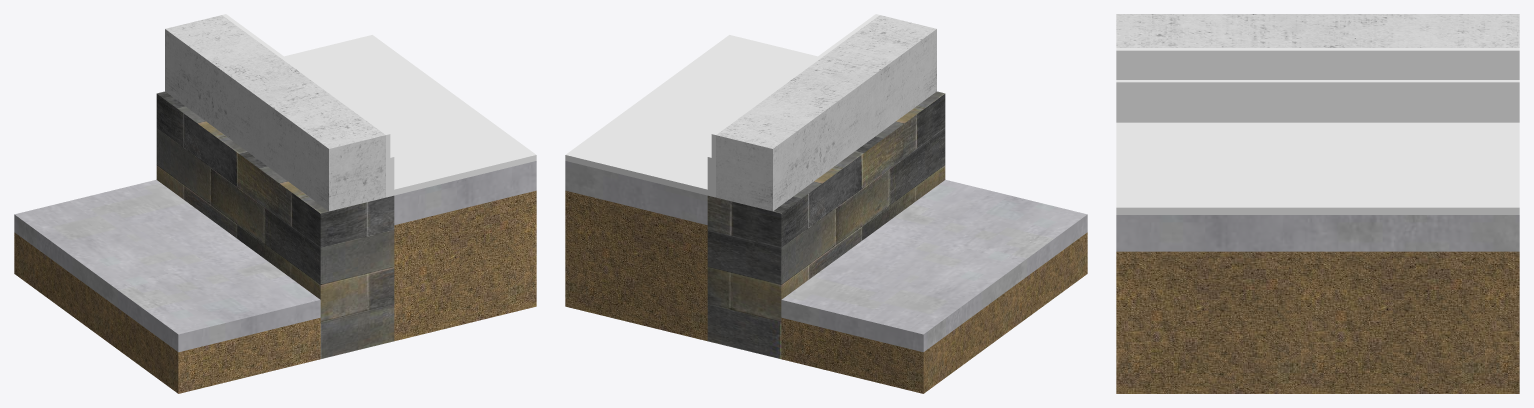
Rendered from stone-plinth.glb.
The picture shows the model from 3 angles, left to right: view 1: azimuth 30°, elevation 25°; view 2: azimuth 150°, elevation 25°; view 3: azimuth 270°, elevation 25°; orthographic projection. The views are drawn at different scales.
Visible parts, largest first — view 1: 垫层, 室内外回填土, 石砌, 墙体, 其余; view 2: 垫层, 室内外回填土, 石砌, 墙体, 其余; view 3: 其余, 室内外回填土, 垫层, 墙体.
Part boxes in pixels (x1,y1,x2,y2): 垫层: (14, 161, 536, 352); 室内外回填土: (14, 190, 536, 393); 石砌: (156, 91, 394, 358); 墙体: (165, 15, 385, 211); 其余: (222, 14, 536, 197); 垫层: (565, 161, 1087, 352); 室内外回填土: (565, 190, 1087, 393); 石砌: (707, 91, 945, 358); 墙体: (716, 15, 936, 211); 其余: (565, 14, 879, 197); 其余: (1116, 48, 1519, 214); 室内外回填土: (1116, 251, 1519, 393); 垫层: (1116, 215, 1519, 251); 墙体: (1116, 14, 1519, 47).
Size of the model in its own units: 1.26 by 0.7 by 1.
Materials: 5 (4 with a texture image).
